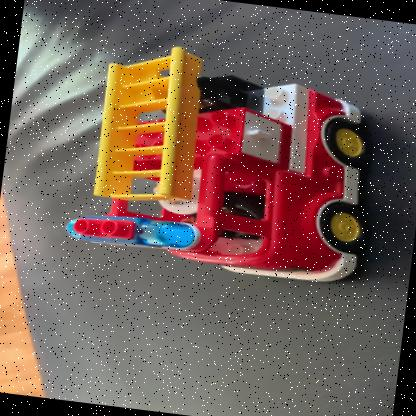lego fire truck: (63, 34, 390, 291)
